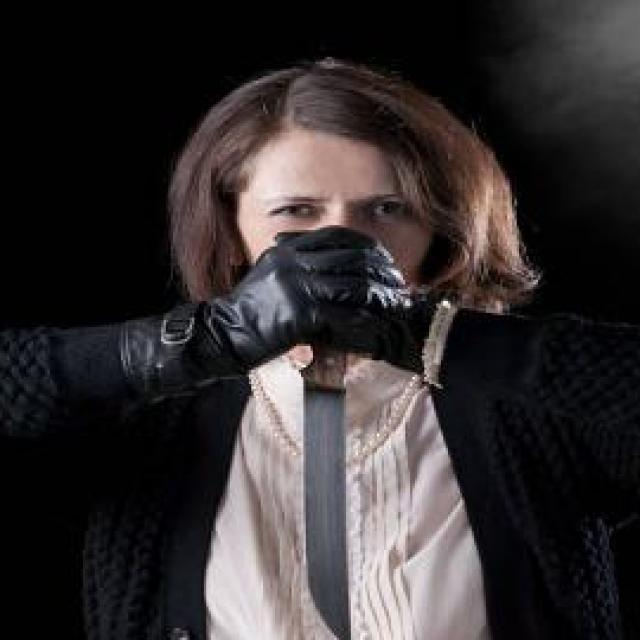knife: (289, 322, 360, 640)
